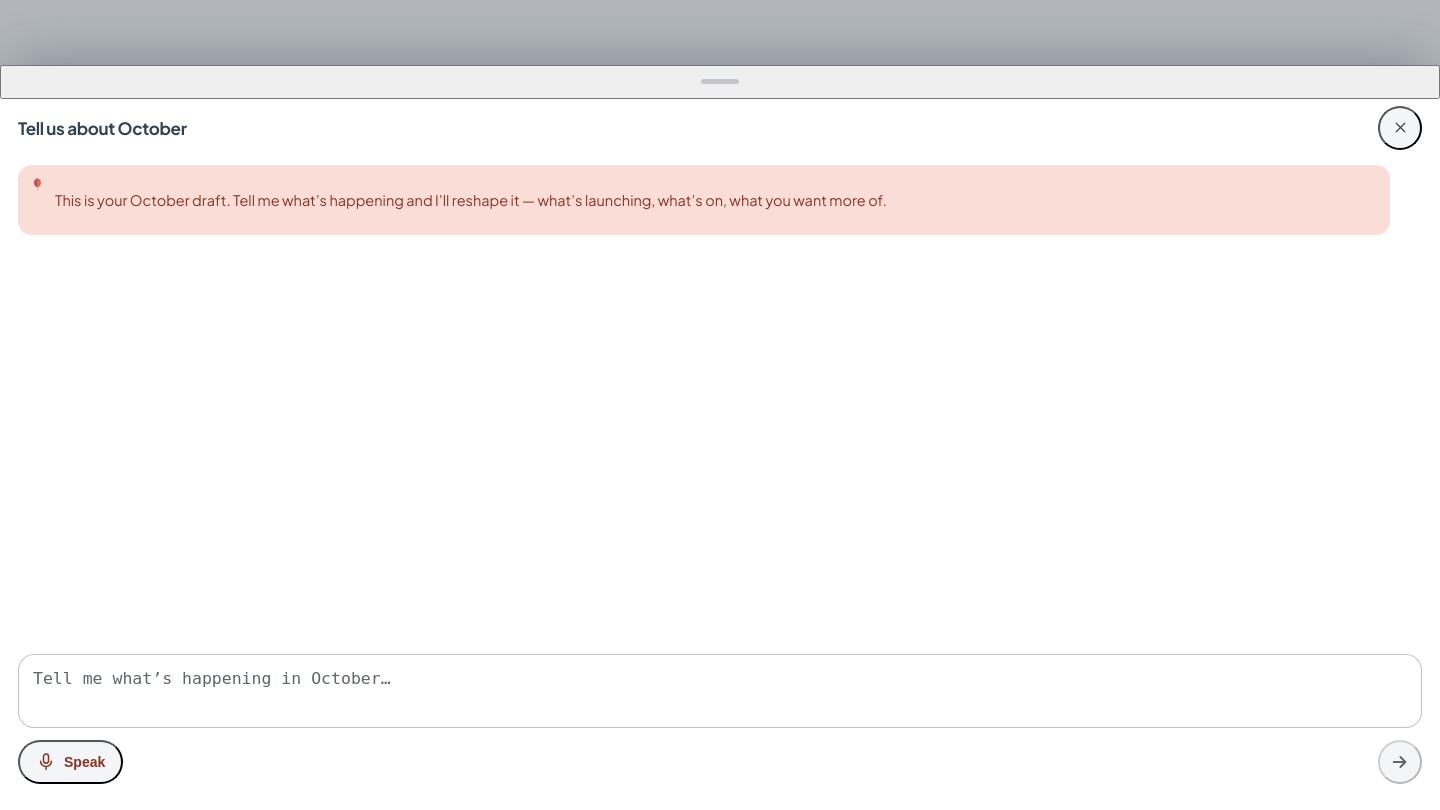
Test: the microphone is a TAP control on a keyboard-first composer › speaking APPENDS to what was typed, and typing REBASES what was heard
In the text box with test id "voice-input": [720, 691] box [18, 654, 1422, 728], type "move it"
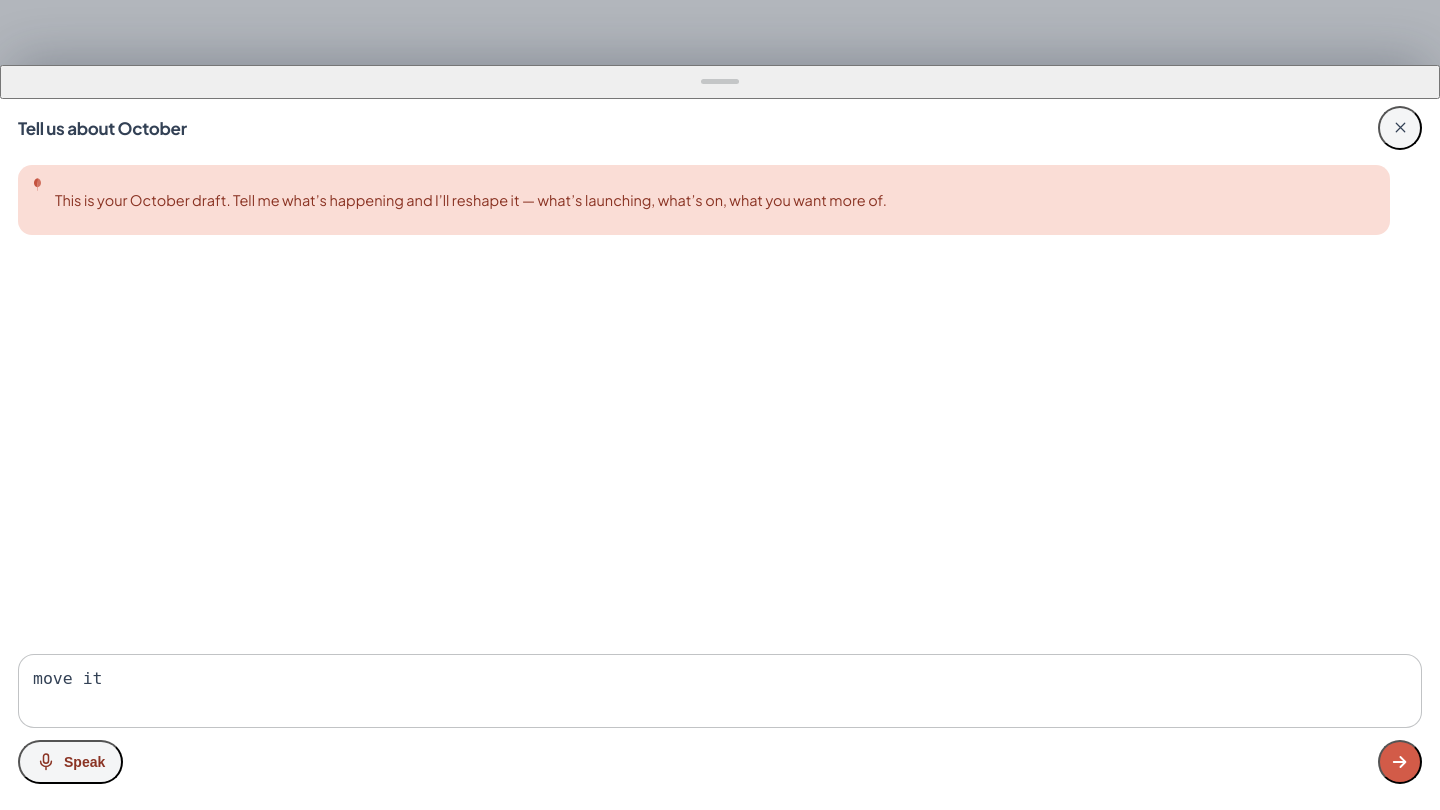
Click the button with test id "voice-mic": [71, 762] box [18, 740, 123, 784]
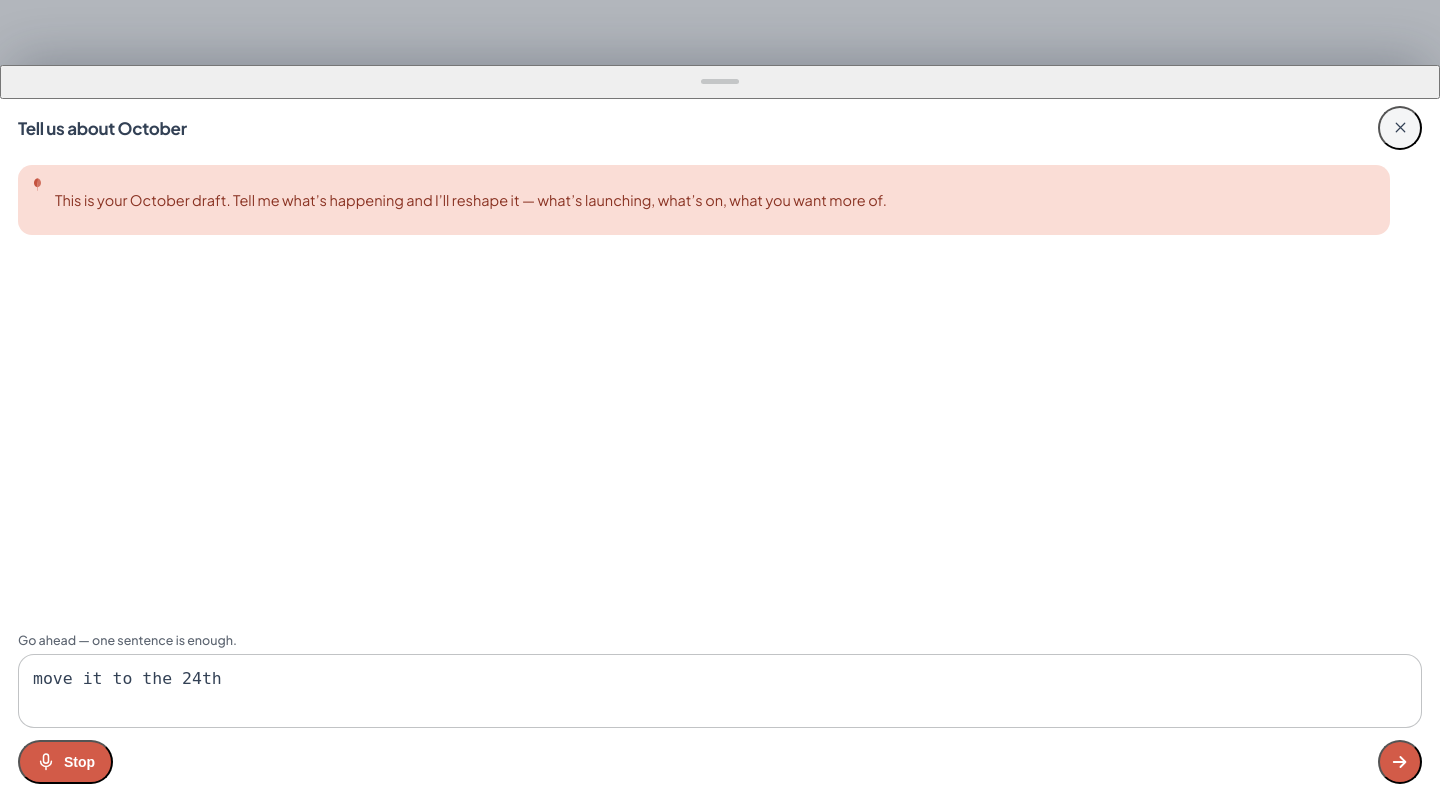
Check: the text box with test id "voice-input" holds "move it to the 24th"
Replace the text in the text box with test id "voice-input" with "move it to the 25th": [720, 691] box [18, 654, 1422, 728]
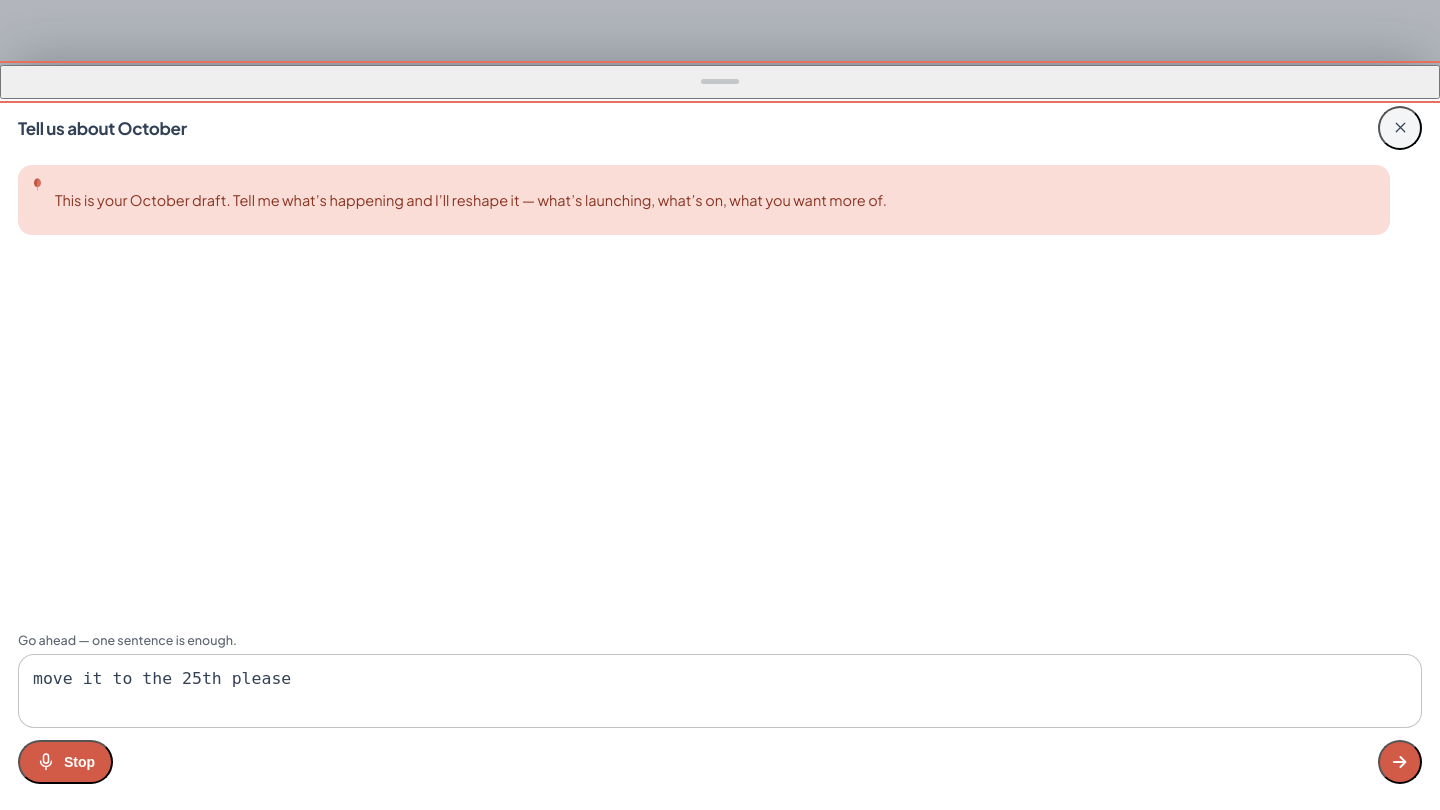
Check: the text box with test id "voice-input" holds "move it to the 25th please", box [18, 654, 1422, 728]
